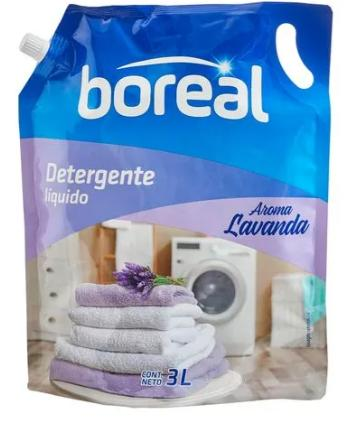brand: (75, 46, 270, 127)
net_weight: (163, 364, 194, 389)
product_name: (34, 155, 164, 212)
